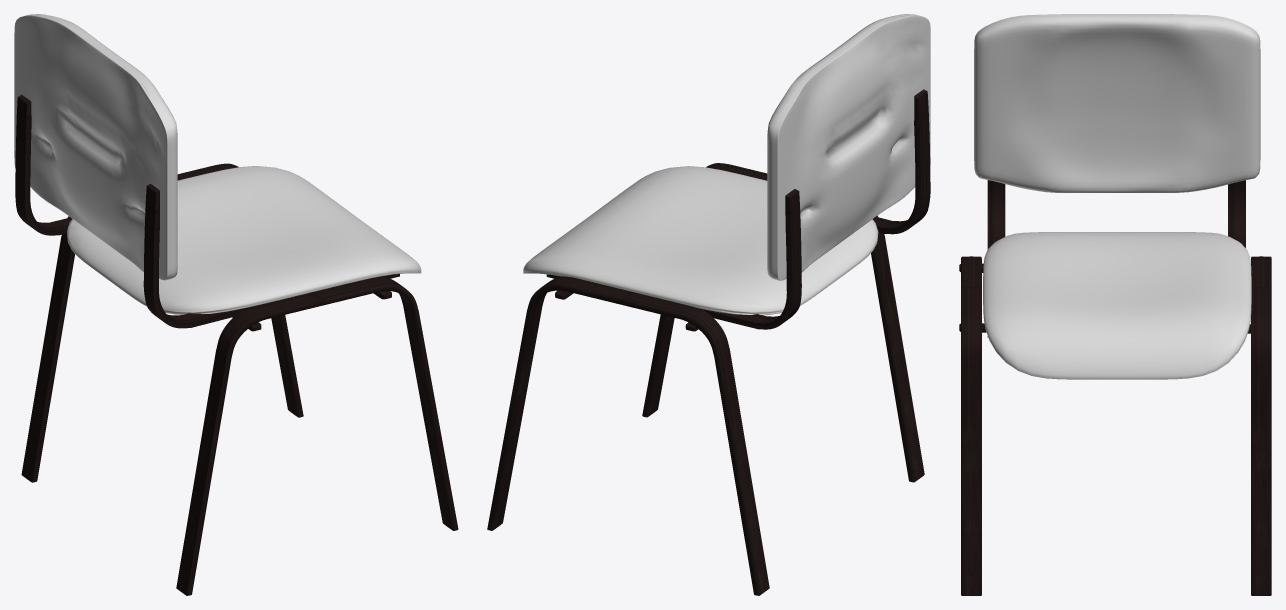
Rendered from Stuhl_klein_rot.fbx.
The picture shows the model from 3 angles, left to right: view 1: azimuth 30°, elevation 25°; view 2: azimuth 150°, elevation 25°; view 3: azimuth 270°, elevation 25°; orthographic projection. The views are drawn at different scales.
Parts seen in each view (by area): view 1: rückenstütze.003; view 2: rückenstütze.003; view 3: rückenstütze.003.
Part boxes in pixels (<box>): rückenstütze.003: <box>14,14,458,595</box>; rückenstütze.003: <box>487,14,930,595</box>; rückenstütze.003: <box>959,14,1271,595</box>.
Bounding box in the file's own units: 52.83 × 84.25 × 52.39.
